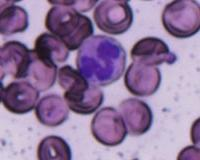N: (76, 34, 125, 86)
